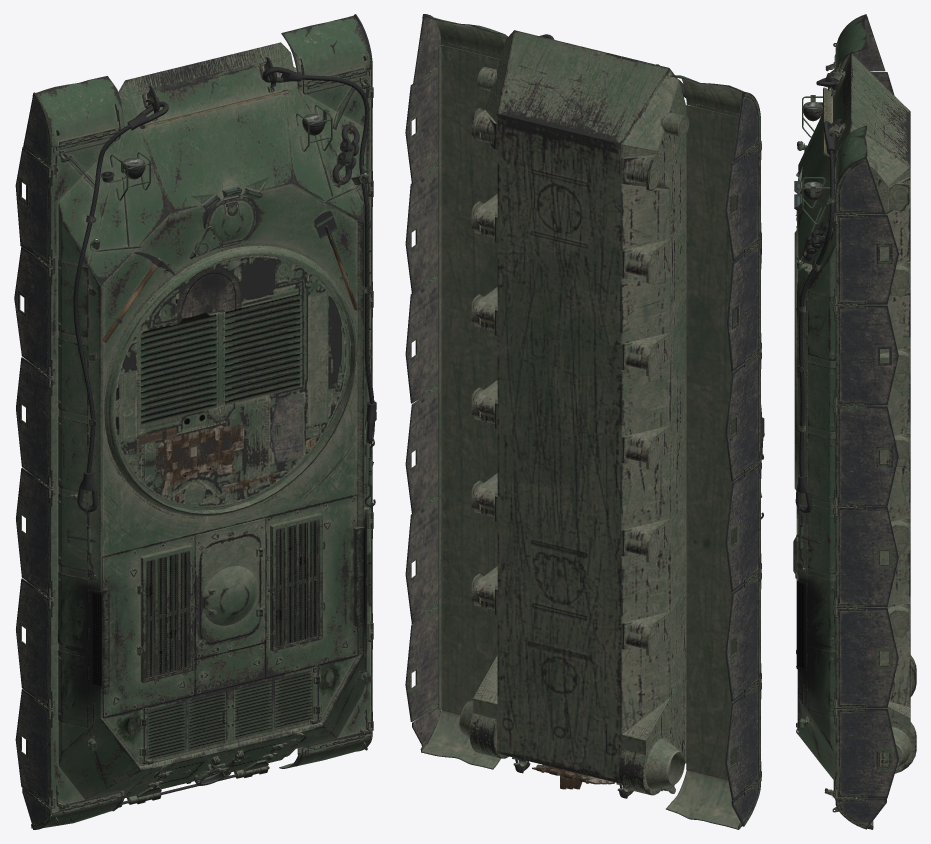
Rendered from Hull.glb.
3 renders of one model, left to right at view 1: azimuth 30°, elevation 25°; view 2: azimuth 150°, elevation 25°; view 3: azimuth 270°, elevation 25°, orthographic. The views are drawn at different scales.
Parts seen in each view (by area): view 1: set_0_group_0; view 2: set_0_group_0; view 3: set_0_group_0.
Part boxes in pixels (x1,y1,x2,y2): set_0_group_0: (14,14,376,829); set_0_group_0: (405,14,764,829); set_0_group_0: (793,14,916,829).
Bounding box in the file's own units: 3.44 × 7.5 × 1.24.
Materials: 1 (1 with a texture image).
